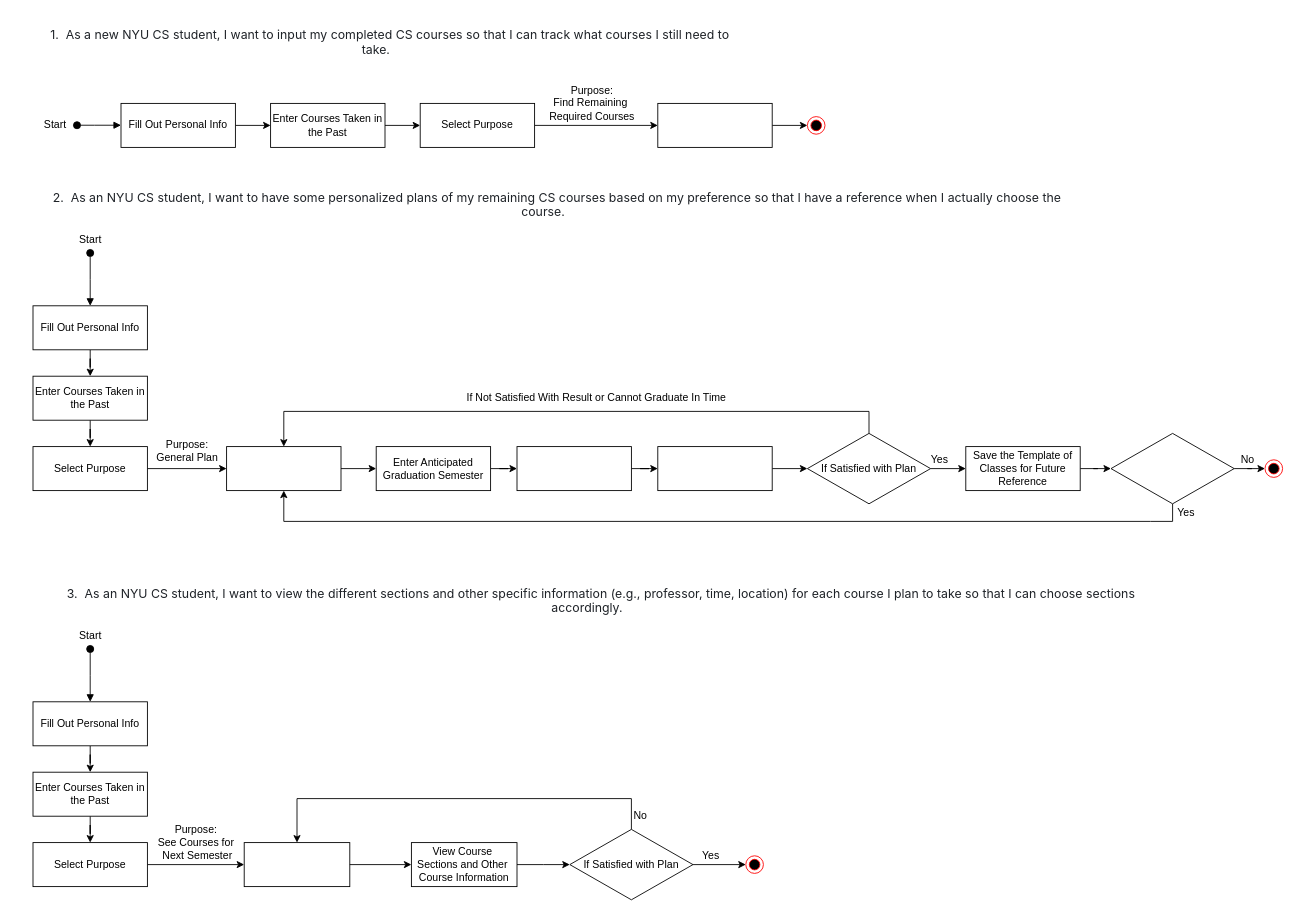
Some shapes in this 1298 by 915 pixel diagram are drawn without their labels. The centre of each missing label's shape, as x and y in pixels:
"Enter Any Winter/Summer Semester Plan" belongs at pixel 573 468.
"If Want to Explore Other Possibilities" belongs at pixel 1172 468.
"See Final Plan" belongs at pixel 714 468.
"Select Fields of Interest" belongs at pixel 283 468.
"View Required Courses and Elective Options" belongs at pixel 714 125.
"View Saved Template(s) & Choose Courses" belongs at pixel 296 864.
